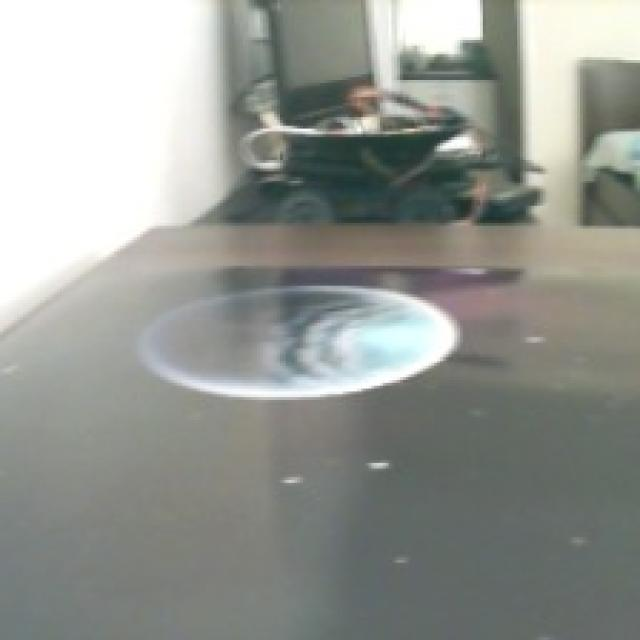Earth: (138, 283, 458, 401)
